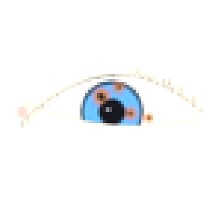foreign_body_visible: (80, 80, 123, 114)
